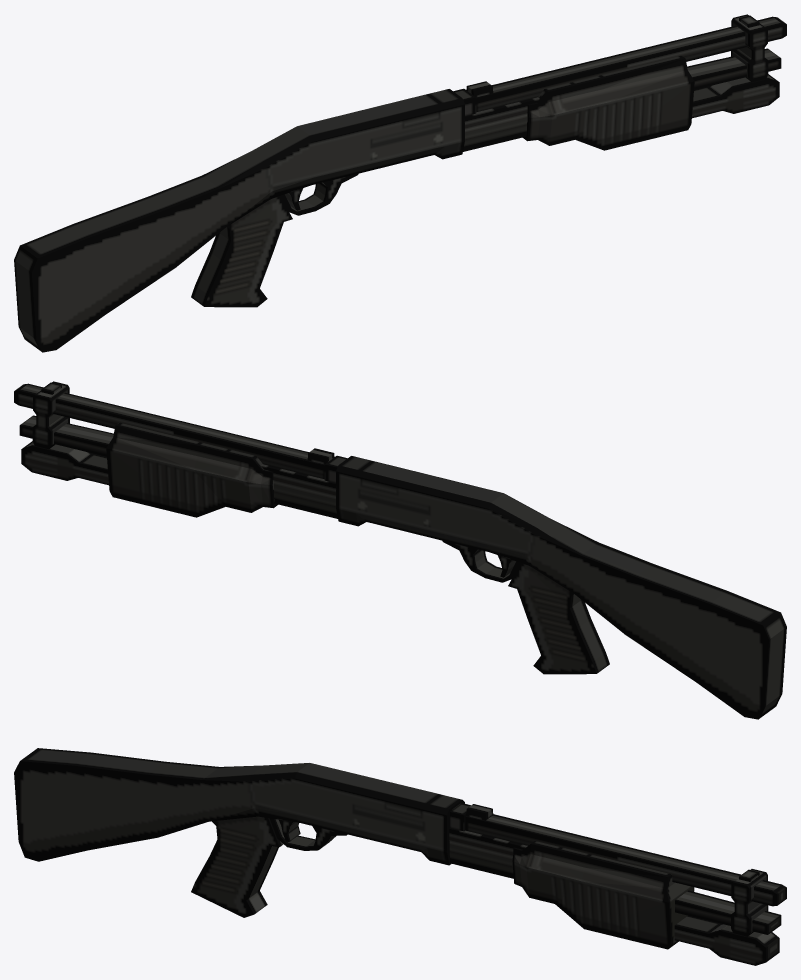
File: Shotgun.FBX
3 views of the same model, one above another, from view 1: azimuth 30°, elevation 25°; view 2: azimuth 150°, elevation 25°; view 3: azimuth 330°, elevation 25° (orthographic).
Parts seen in each view (by area): view 1: Plane002, Object001; view 2: Plane002, Object001; view 3: Plane002, Object001.
Boxes of the visible parts, x1,y1,x2,y2 form: Plane002: [14, 14, 786, 352]; Object001: [522, 55, 694, 150]; Plane002: [14, 381, 786, 719]; Object001: [106, 422, 278, 517]; Plane002: [14, 748, 786, 965]; Object001: [512, 841, 694, 949].
Size of the model in its own units: 268 by 54.11 by 15.85.
